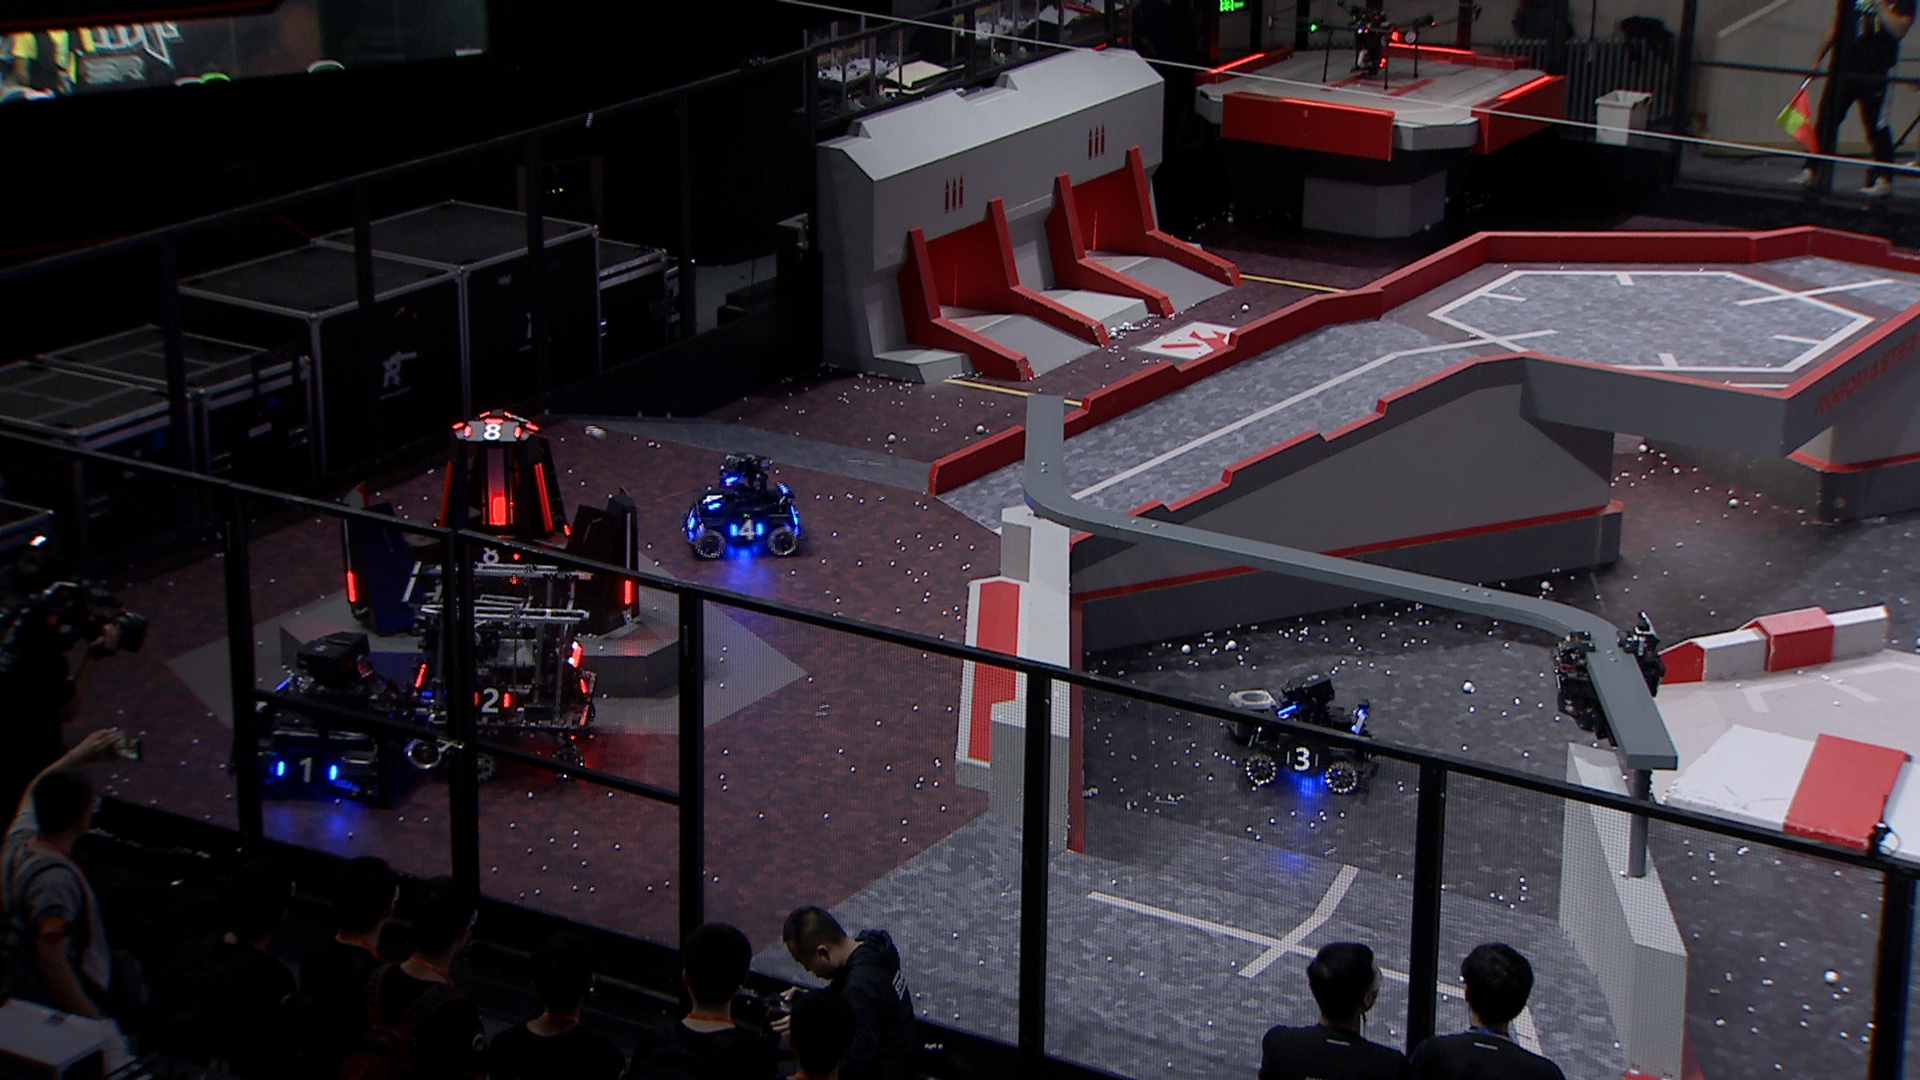armor: (268, 754, 340, 790), (467, 542, 526, 580), (531, 462, 556, 533), (462, 418, 520, 447), (433, 458, 458, 524), (1284, 742, 1325, 774), (471, 684, 513, 713), (487, 485, 510, 527), (728, 518, 766, 542), (576, 665, 599, 698), (342, 566, 357, 607), (698, 487, 723, 512), (618, 576, 637, 609), (679, 506, 698, 531)
base: (340, 407, 644, 640)
car: (404, 556, 608, 783), (239, 624, 433, 804), (1236, 670, 1385, 798), (678, 450, 803, 562)
watcher: (1545, 605, 1669, 744)
